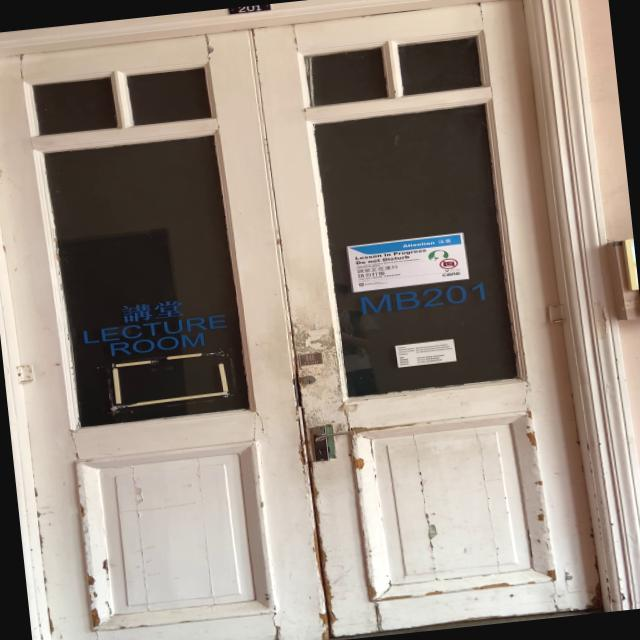room201Window: (352, 280, 493, 316)
